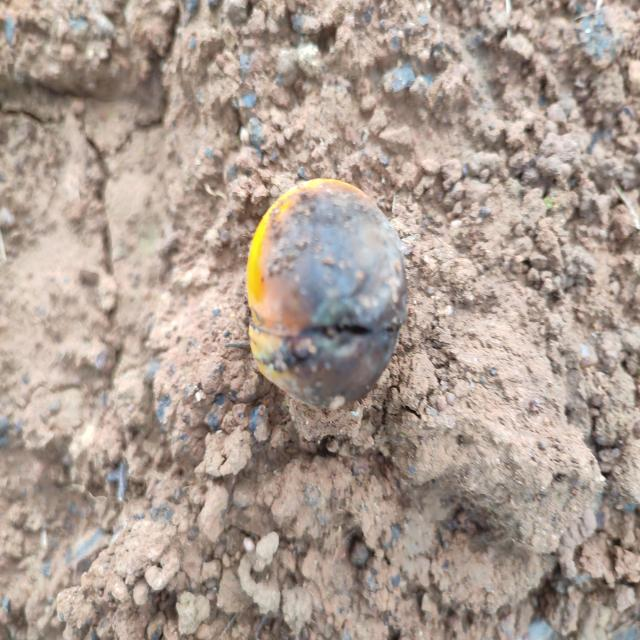damaged: (244, 179, 412, 415)
